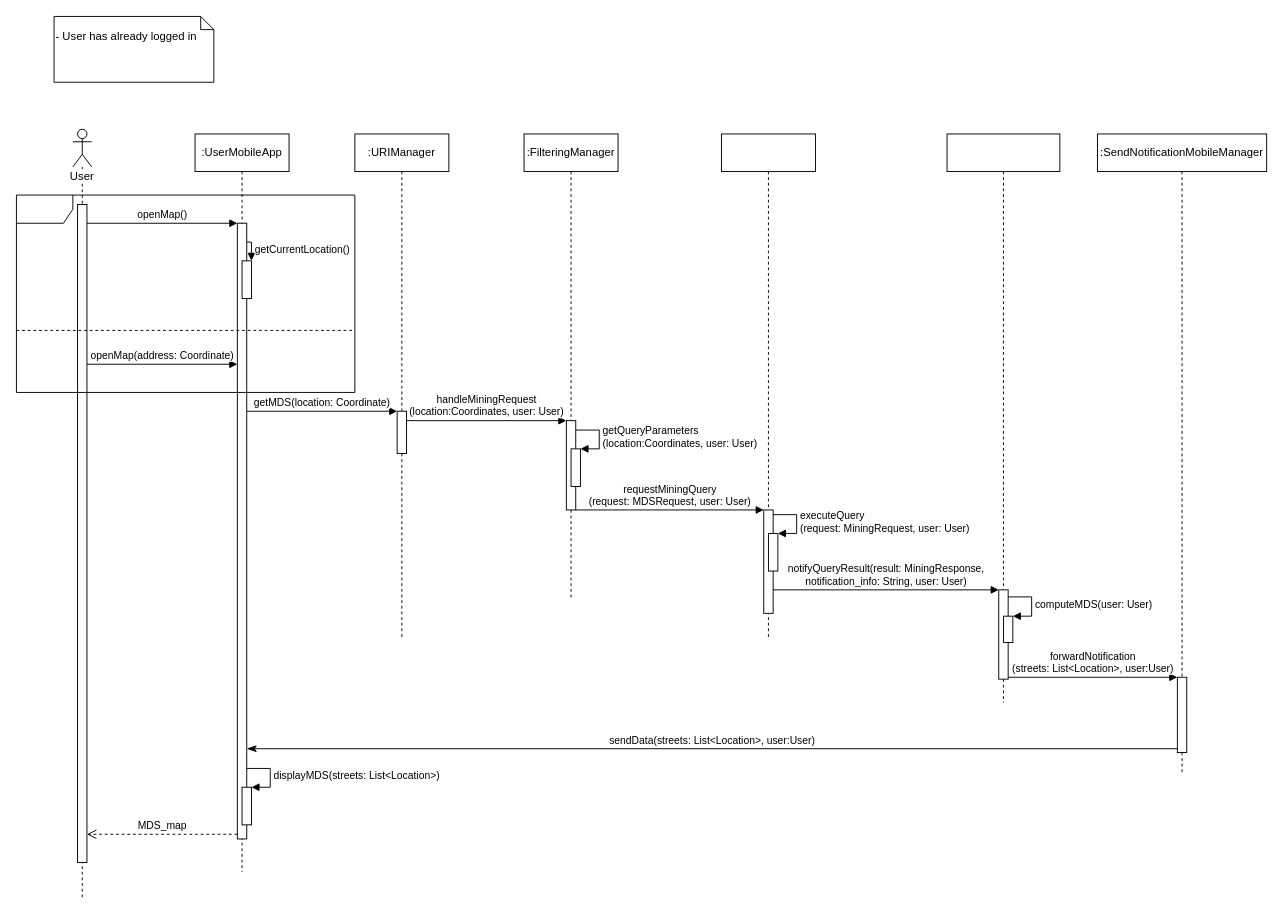
Image size: 1283x917. Some labels were removed from this diagram. Here are the shapes that lost their labels. From the top down, the box of each, then its label:
(16, 194, 355, 392): Alt
(721, 133, 815, 637): :QueryManager
(946, 133, 1060, 703): :AggregationManager
